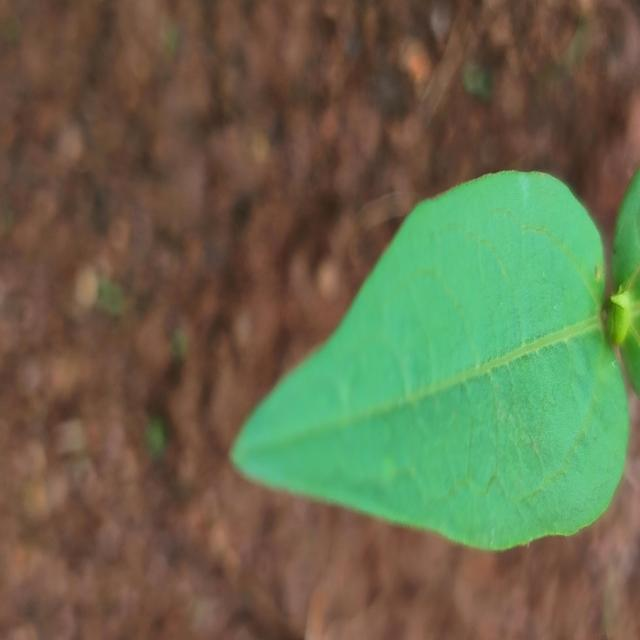Black gram_healthy: (229, 166, 627, 552)
